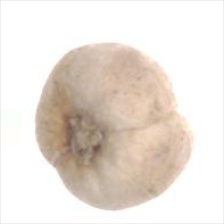L4: (35, 41, 192, 211)
